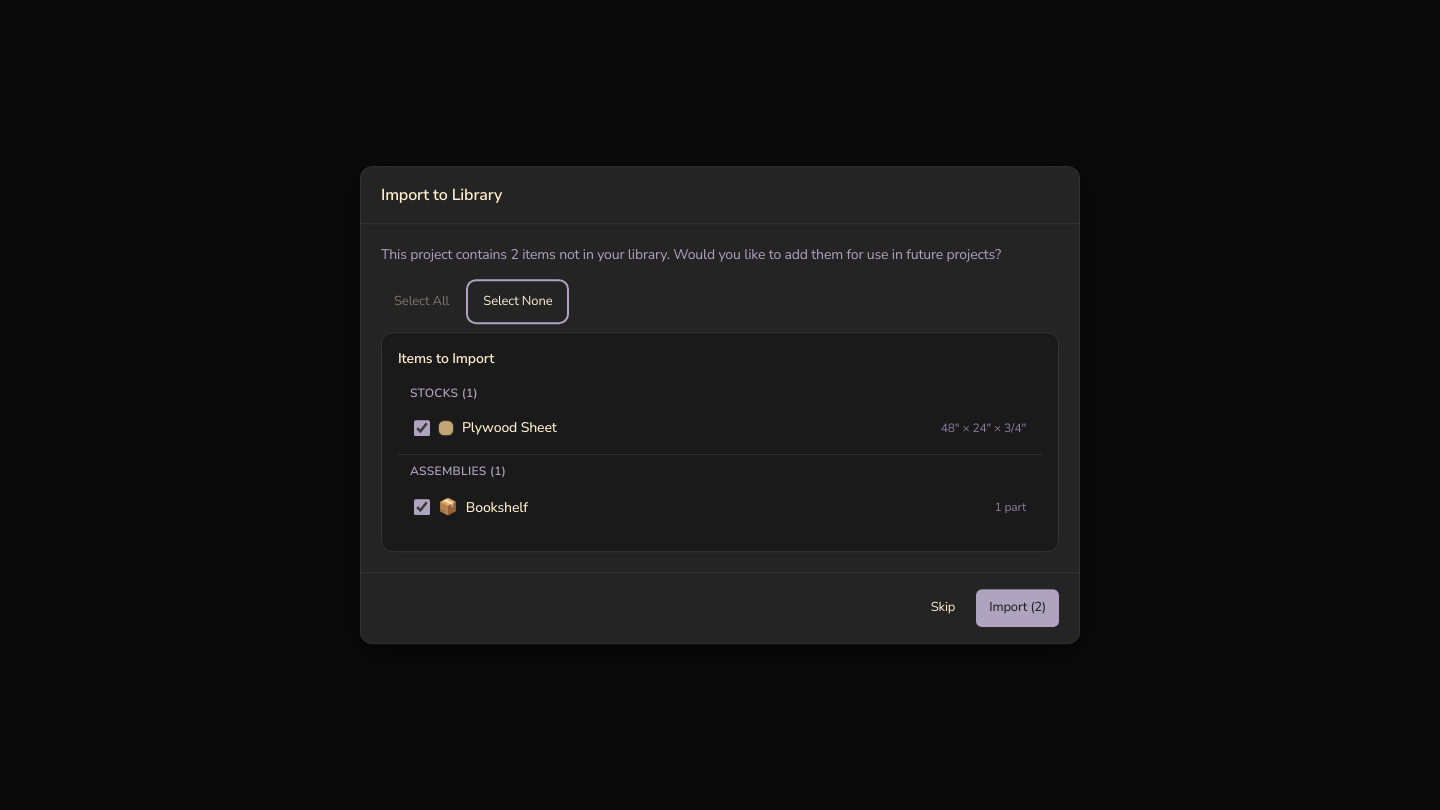
Test: ImportToLibraryDialog › selection controls › Select All selects all items after deselecting
Click the button "Select None" at (518, 302), box [470, 283, 565, 320]
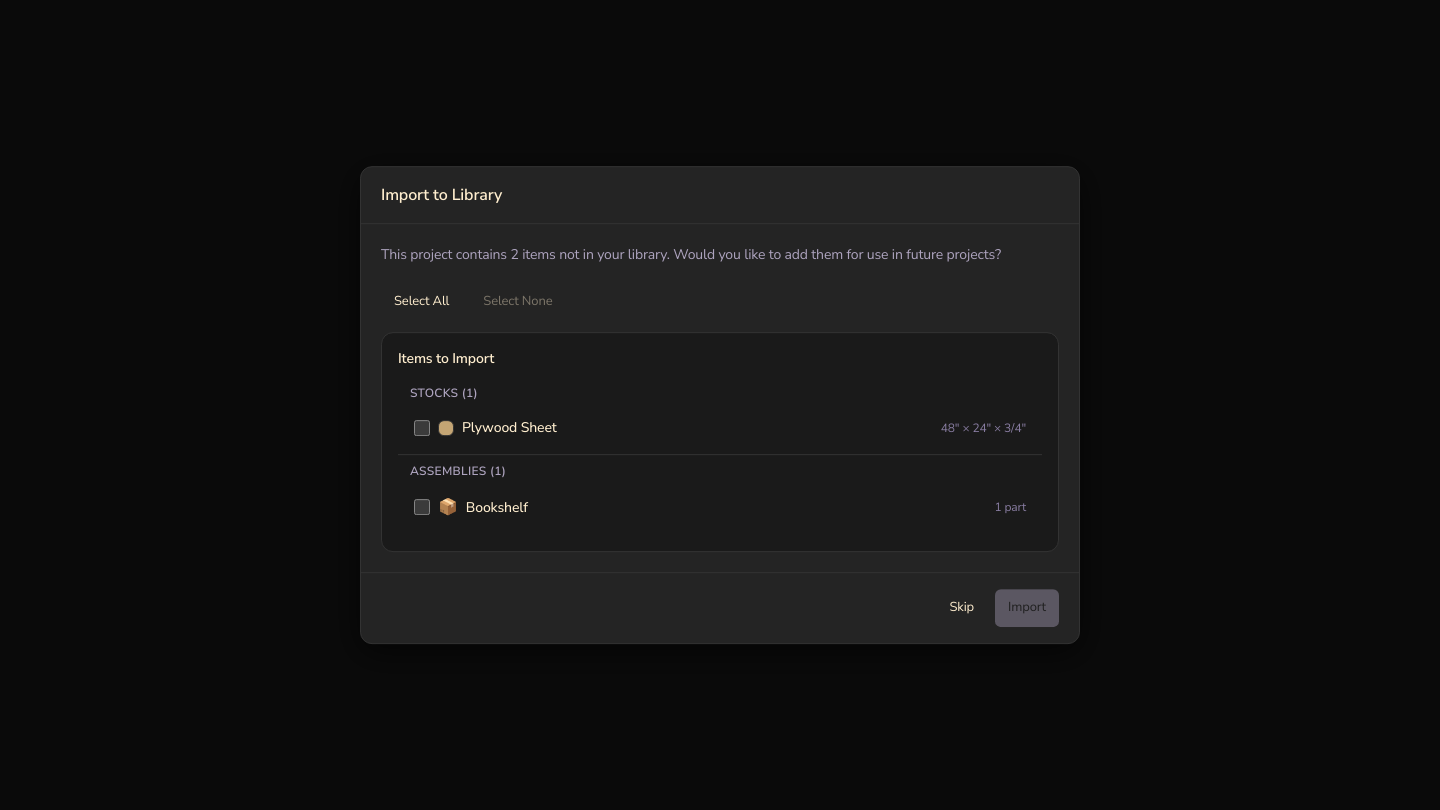
Click the button "Select All" at (422, 302), box [381, 283, 462, 320]
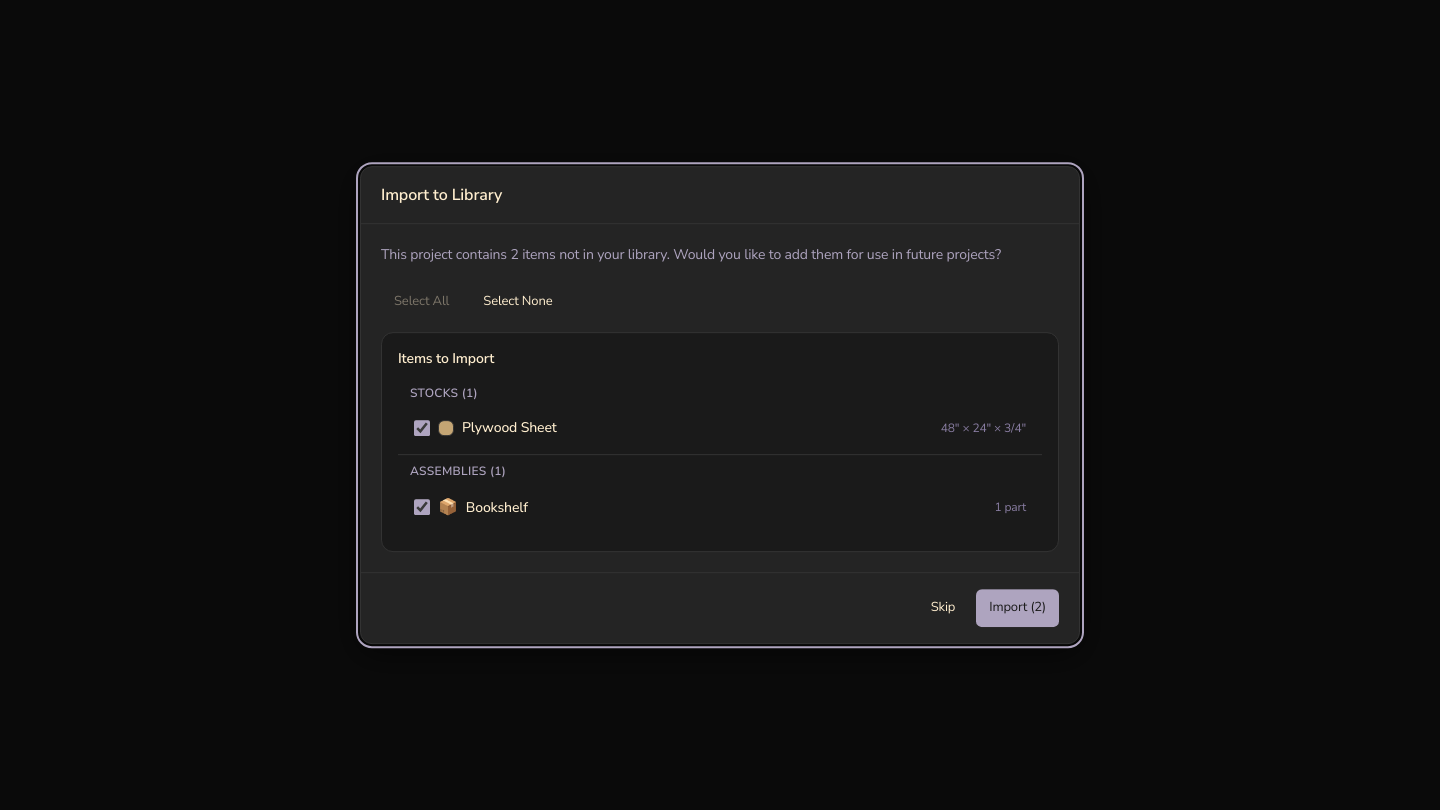
Now the checkbox labelled "Plywood Sheet 48\" × 24\" × 3/4\"" is checked, box [414, 420, 430, 436]
Now the checkbox labelled "📦 Bookshelf 1 part" is checked, box [414, 499, 430, 515]
